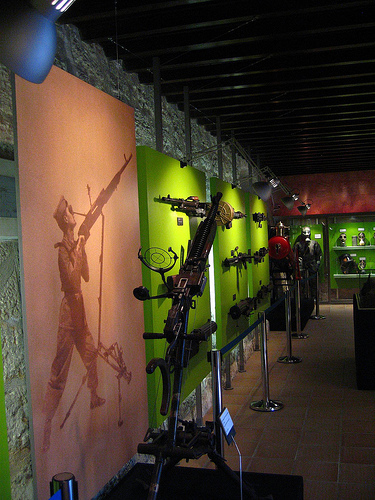rifle: (128, 186, 223, 461)
